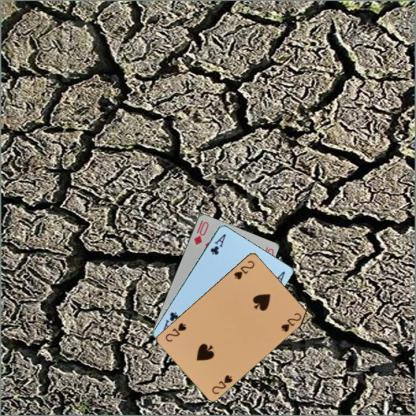10d: (191, 219, 210, 246)
2s: (209, 372, 234, 395), (231, 258, 256, 280)
Ac: (207, 230, 227, 256)
